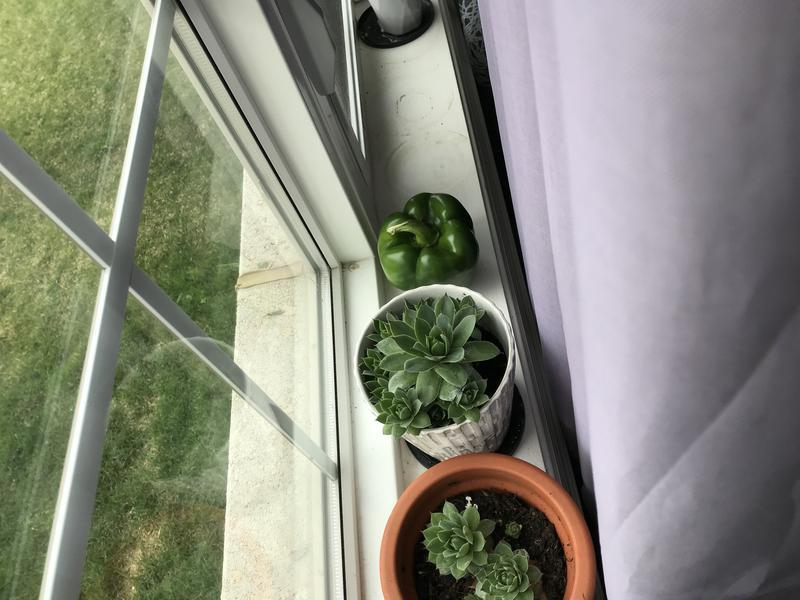green_pepper: (372, 187, 492, 306)
